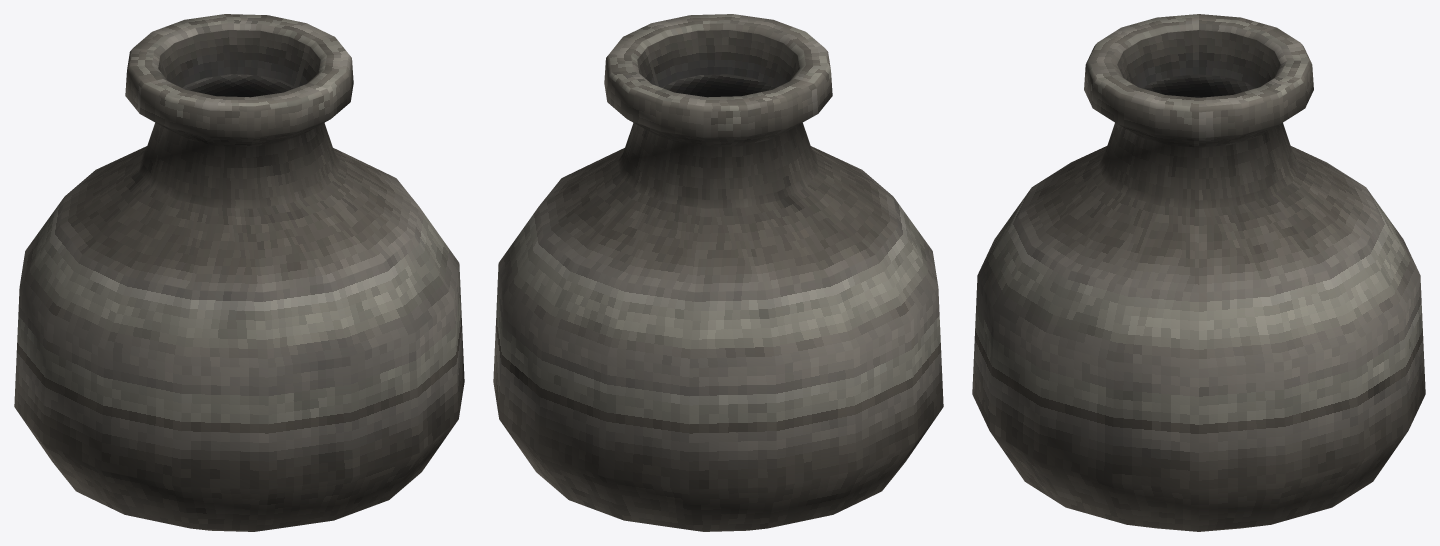
The model's file is retro_ps1_pot.glb.
The picture shows the model from 3 angles, left to right: view 1: azimuth 30°, elevation 25°; view 2: azimuth 150°, elevation 25°; view 3: azimuth 270°, elevation 25°; orthographic projection.
Visible parts, largest first — view 1: Object_2; view 2: Object_2; view 3: Object_2.
Part boxes in pixels (bbox=[...]): Object_2: bbox=[14, 14, 464, 531]; Object_2: bbox=[493, 14, 943, 531]; Object_2: bbox=[972, 14, 1425, 531].
Size of the model in its own units: 1.98 by 2.05 by 1.98.
1 material, 1 textured.
